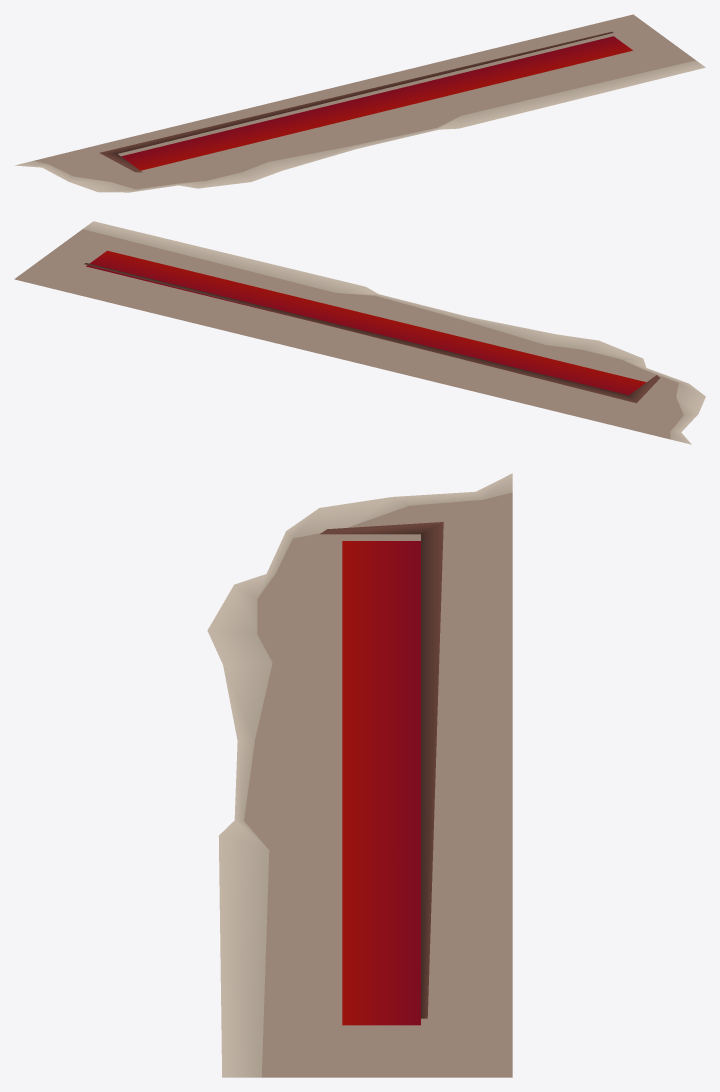
The model's file is UI_Healthbar.fbx.
3 renders of one model, top to bottom at view 1: azimuth 30°, elevation 25°; view 2: azimuth 150°, elevation 25°; view 3: azimuth 270°, elevation 25°, orthographic. The views are drawn at different scales.
Visible parts, largest first — view 1: Healthbar_Backdrop, Healthbar_Bar, Healthbar_Frame; view 2: Healthbar_Backdrop, Healthbar_Bar, Healthbar_Frame; view 3: Healthbar_Backdrop, Healthbar_Bar, Healthbar_Frame.
Boxes of the visible parts, left/top/right/bottom form: Healthbar_Backdrop: left=14, top=14, right=705, bottom=192; Healthbar_Bar: left=121, top=36, right=632, bottom=170; Healthbar_Frame: left=99, top=31, right=613, bottom=172; Healthbar_Backdrop: left=14, top=221, right=705, bottom=444; Healthbar_Bar: left=86, top=250, right=646, bottom=395; Healthbar_Frame: left=84, top=263, right=659, bottom=403; Healthbar_Backdrop: left=207, top=473, right=512, bottom=1077; Healthbar_Bar: left=342, top=541, right=420, bottom=1025; Healthbar_Frame: left=320, top=522, right=443, bottom=1018.
Size of the model in its own units: 131 by 1.77 by 28.
